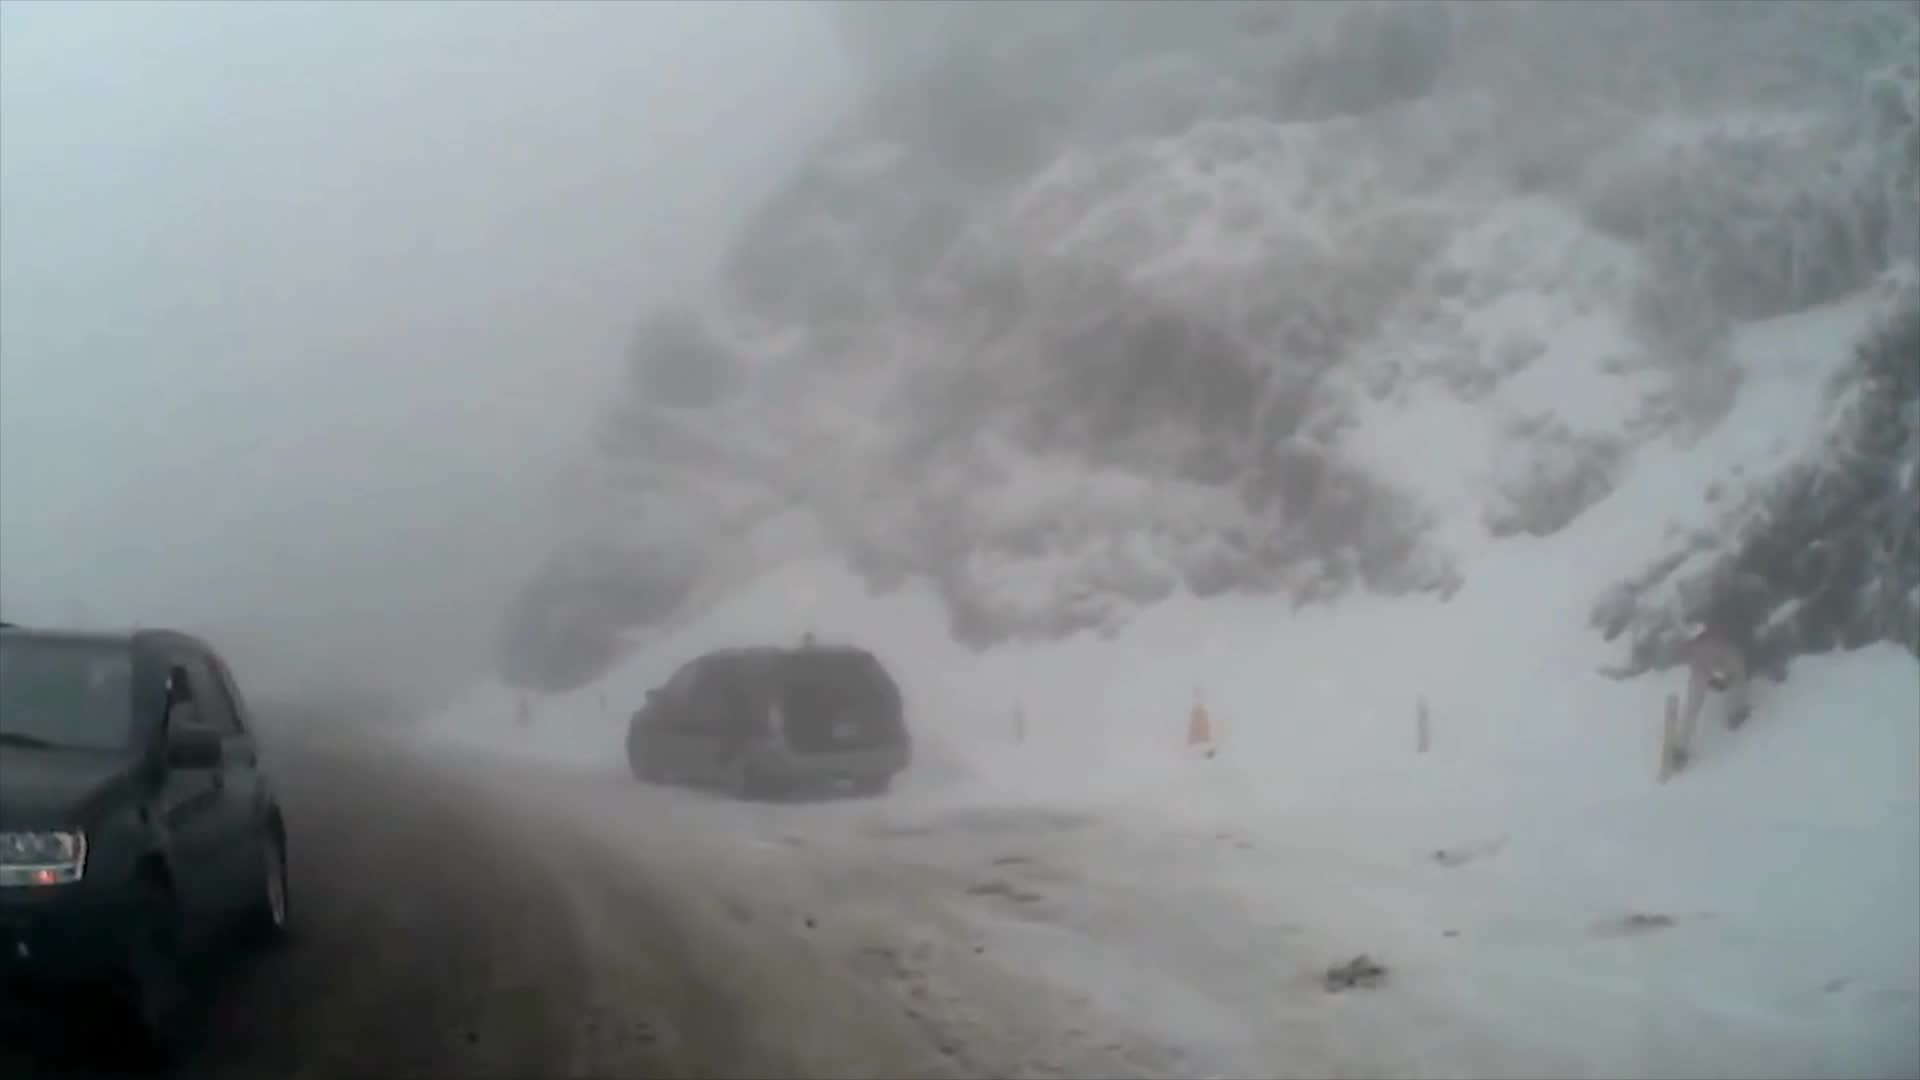vehicle: (0, 618, 294, 1062), (626, 644, 910, 796)
